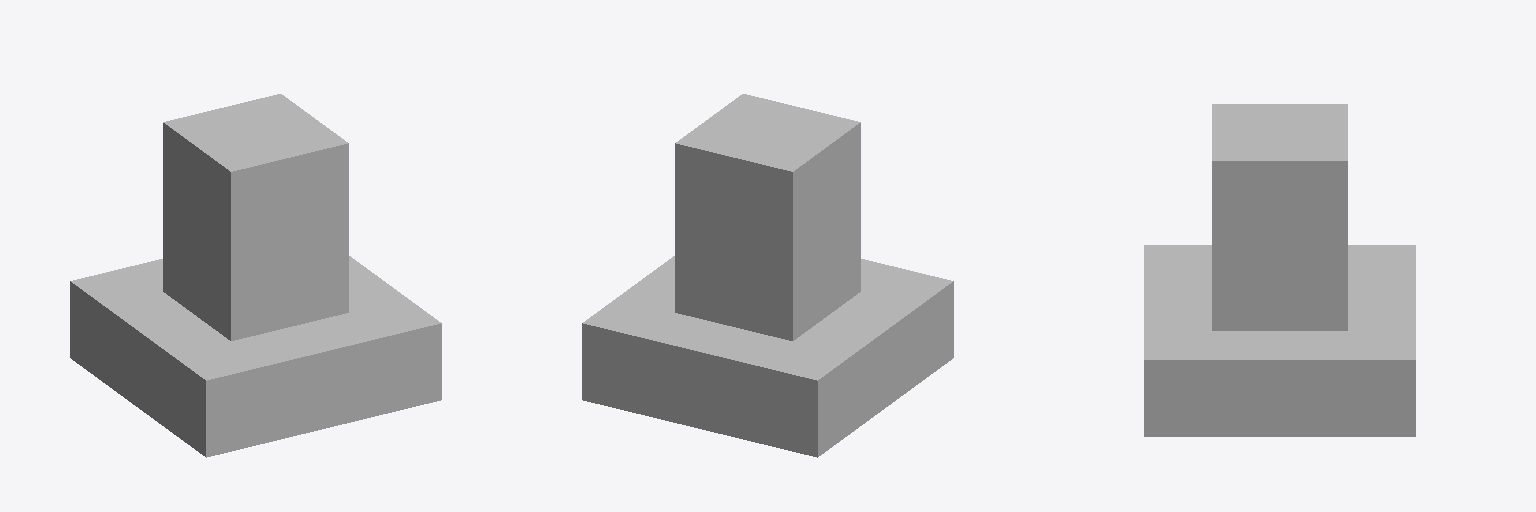
File: pto.obj
The picture shows the model from 3 angles: view 1: azimuth 30°, elevation 25°; view 2: azimuth 150°, elevation 25°; view 3: azimuth 270°, elevation 25°; orthographic projection.
Visible parts, largest first — view 1: cube, center; view 2: cube, center; view 3: cube, center.
Boxes of the visible parts, x1,y1,x2,y2 form: cube: [70, 256, 441, 457]; center: [163, 94, 348, 340]; cube: [582, 256, 953, 457]; center: [675, 94, 860, 340]; cube: [1144, 245, 1415, 436]; center: [1212, 104, 1347, 330].
Size of the model in its own units: 1 by 1 by 1.